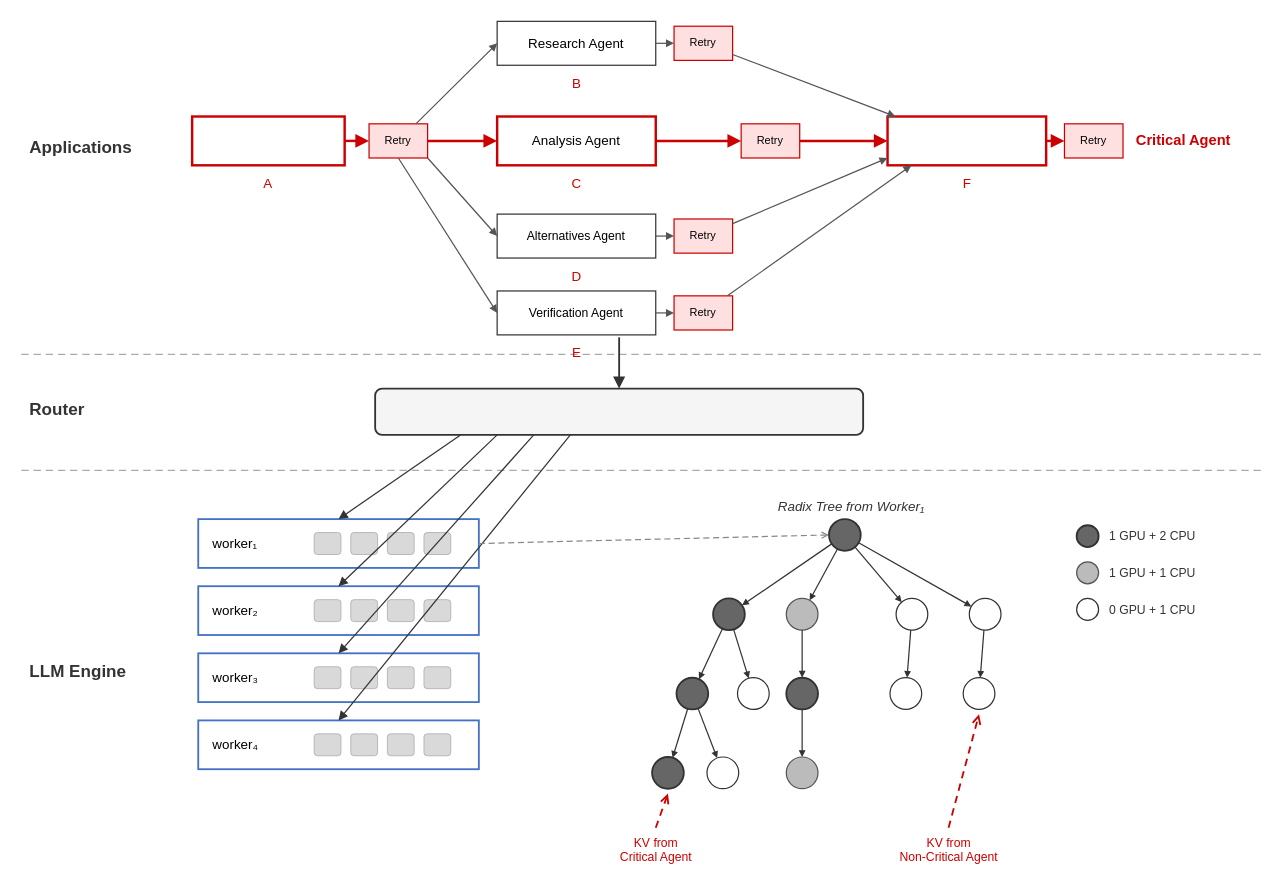
Some shapes in this 1288 by 892 pixel diagram are drawn without their labels. The shapes that lost their labels are listed below. From the top down, each one's box as (x1, y1, x2, y2) in pixels, then its label:
(190, 115, 345, 166): Question Agent
(886, 115, 1047, 166): Synthesis Agent
(374, 387, 864, 435): Prefix-Aware Router
